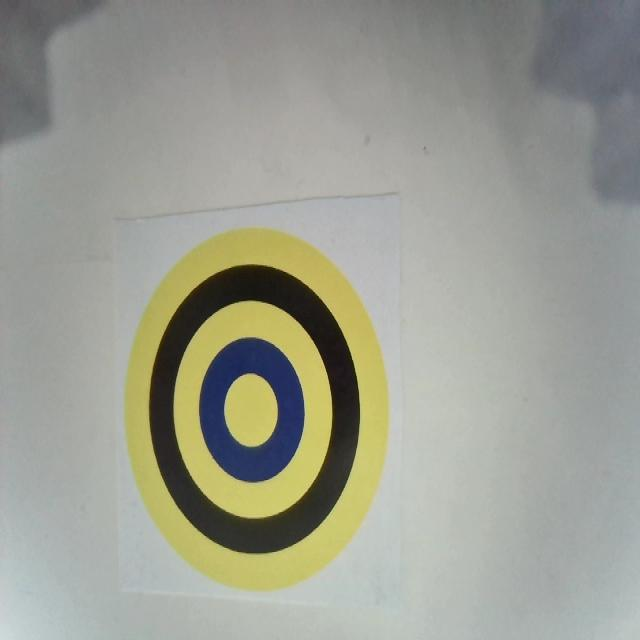cogn: (125, 223, 389, 590)
